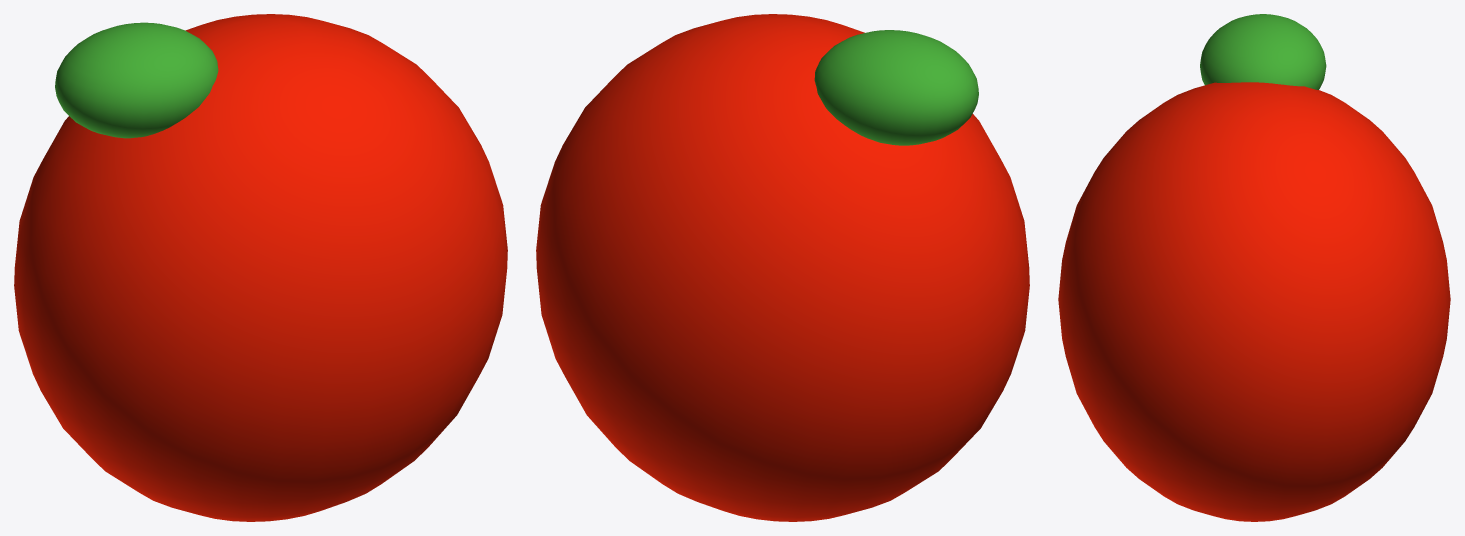
Rendered from Apple.FBX.
3 views of the same model, side by side, from view 1: azimuth 30°, elevation 25°; view 2: azimuth 150°, elevation 25°; view 3: azimuth 270°, elevation 25° (orthographic). The views are drawn at different scales.
Parts seen in each view (by area): view 1: Sphere212, Sphere213; view 2: Sphere212, Sphere213; view 3: Sphere212, Sphere213.
Boxes of the visible parts, left/top/right/bottom form: Sphere212: left=14, top=14, right=507, bottom=521; Sphere213: left=55, top=22, right=218, bottom=138; Sphere212: left=536, top=14, right=1029, bottom=521; Sphere213: left=814, top=30, right=978, bottom=145; Sphere212: left=1058, top=82, right=1450, bottom=521; Sphere213: left=1200, top=14, right=1326, bottom=89.
Size of the model in its own units: 6.39 by 5.71 by 6.86.
2 materials, 2 textured.
